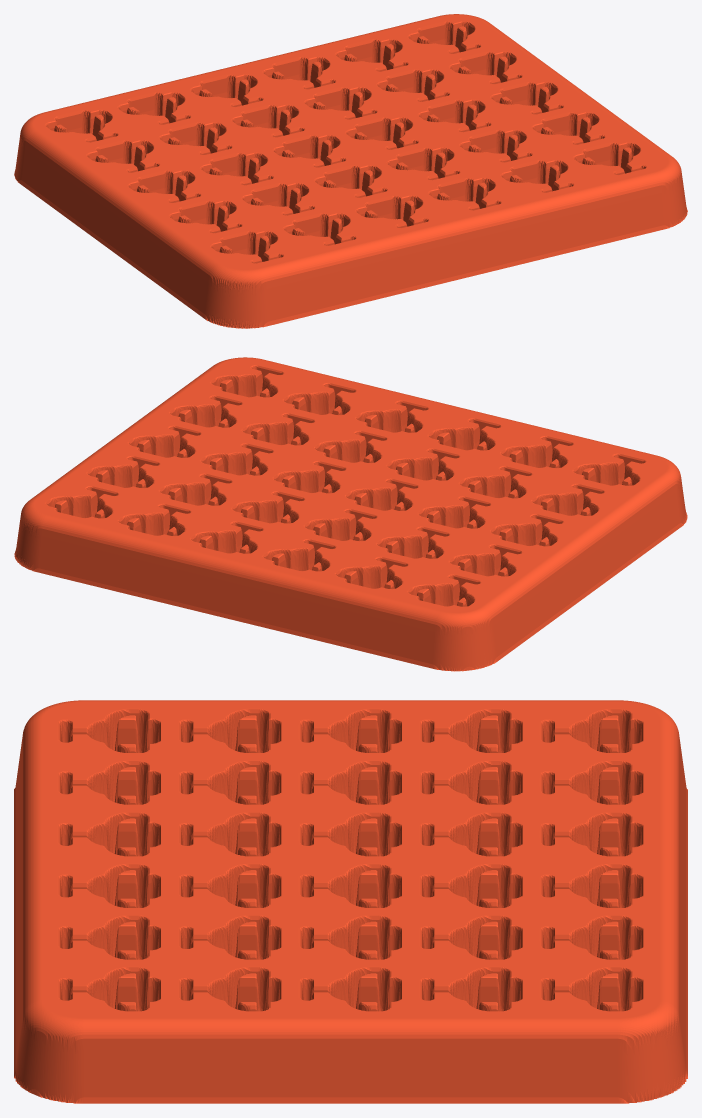
The model's file is mold.glb.
3 views of the same model, one above another, from view 1: azimuth 30°, elevation 25°; view 2: azimuth 150°, elevation 25°; view 3: azimuth 270°, elevation 25° (orthographic). The views are drawn at different scales.
Visible parts, largest first — view 1: geometry_0; view 2: geometry_0; view 3: geometry_0.
Boxes of the visible parts, x1,y1,x2,y2 form: geometry_0: (14, 14, 687, 328); geometry_0: (14, 357, 687, 671); geometry_0: (14, 700, 687, 1103).
Bounding box in the file's own units: 0.104 × 0.0105 × 0.0872.
